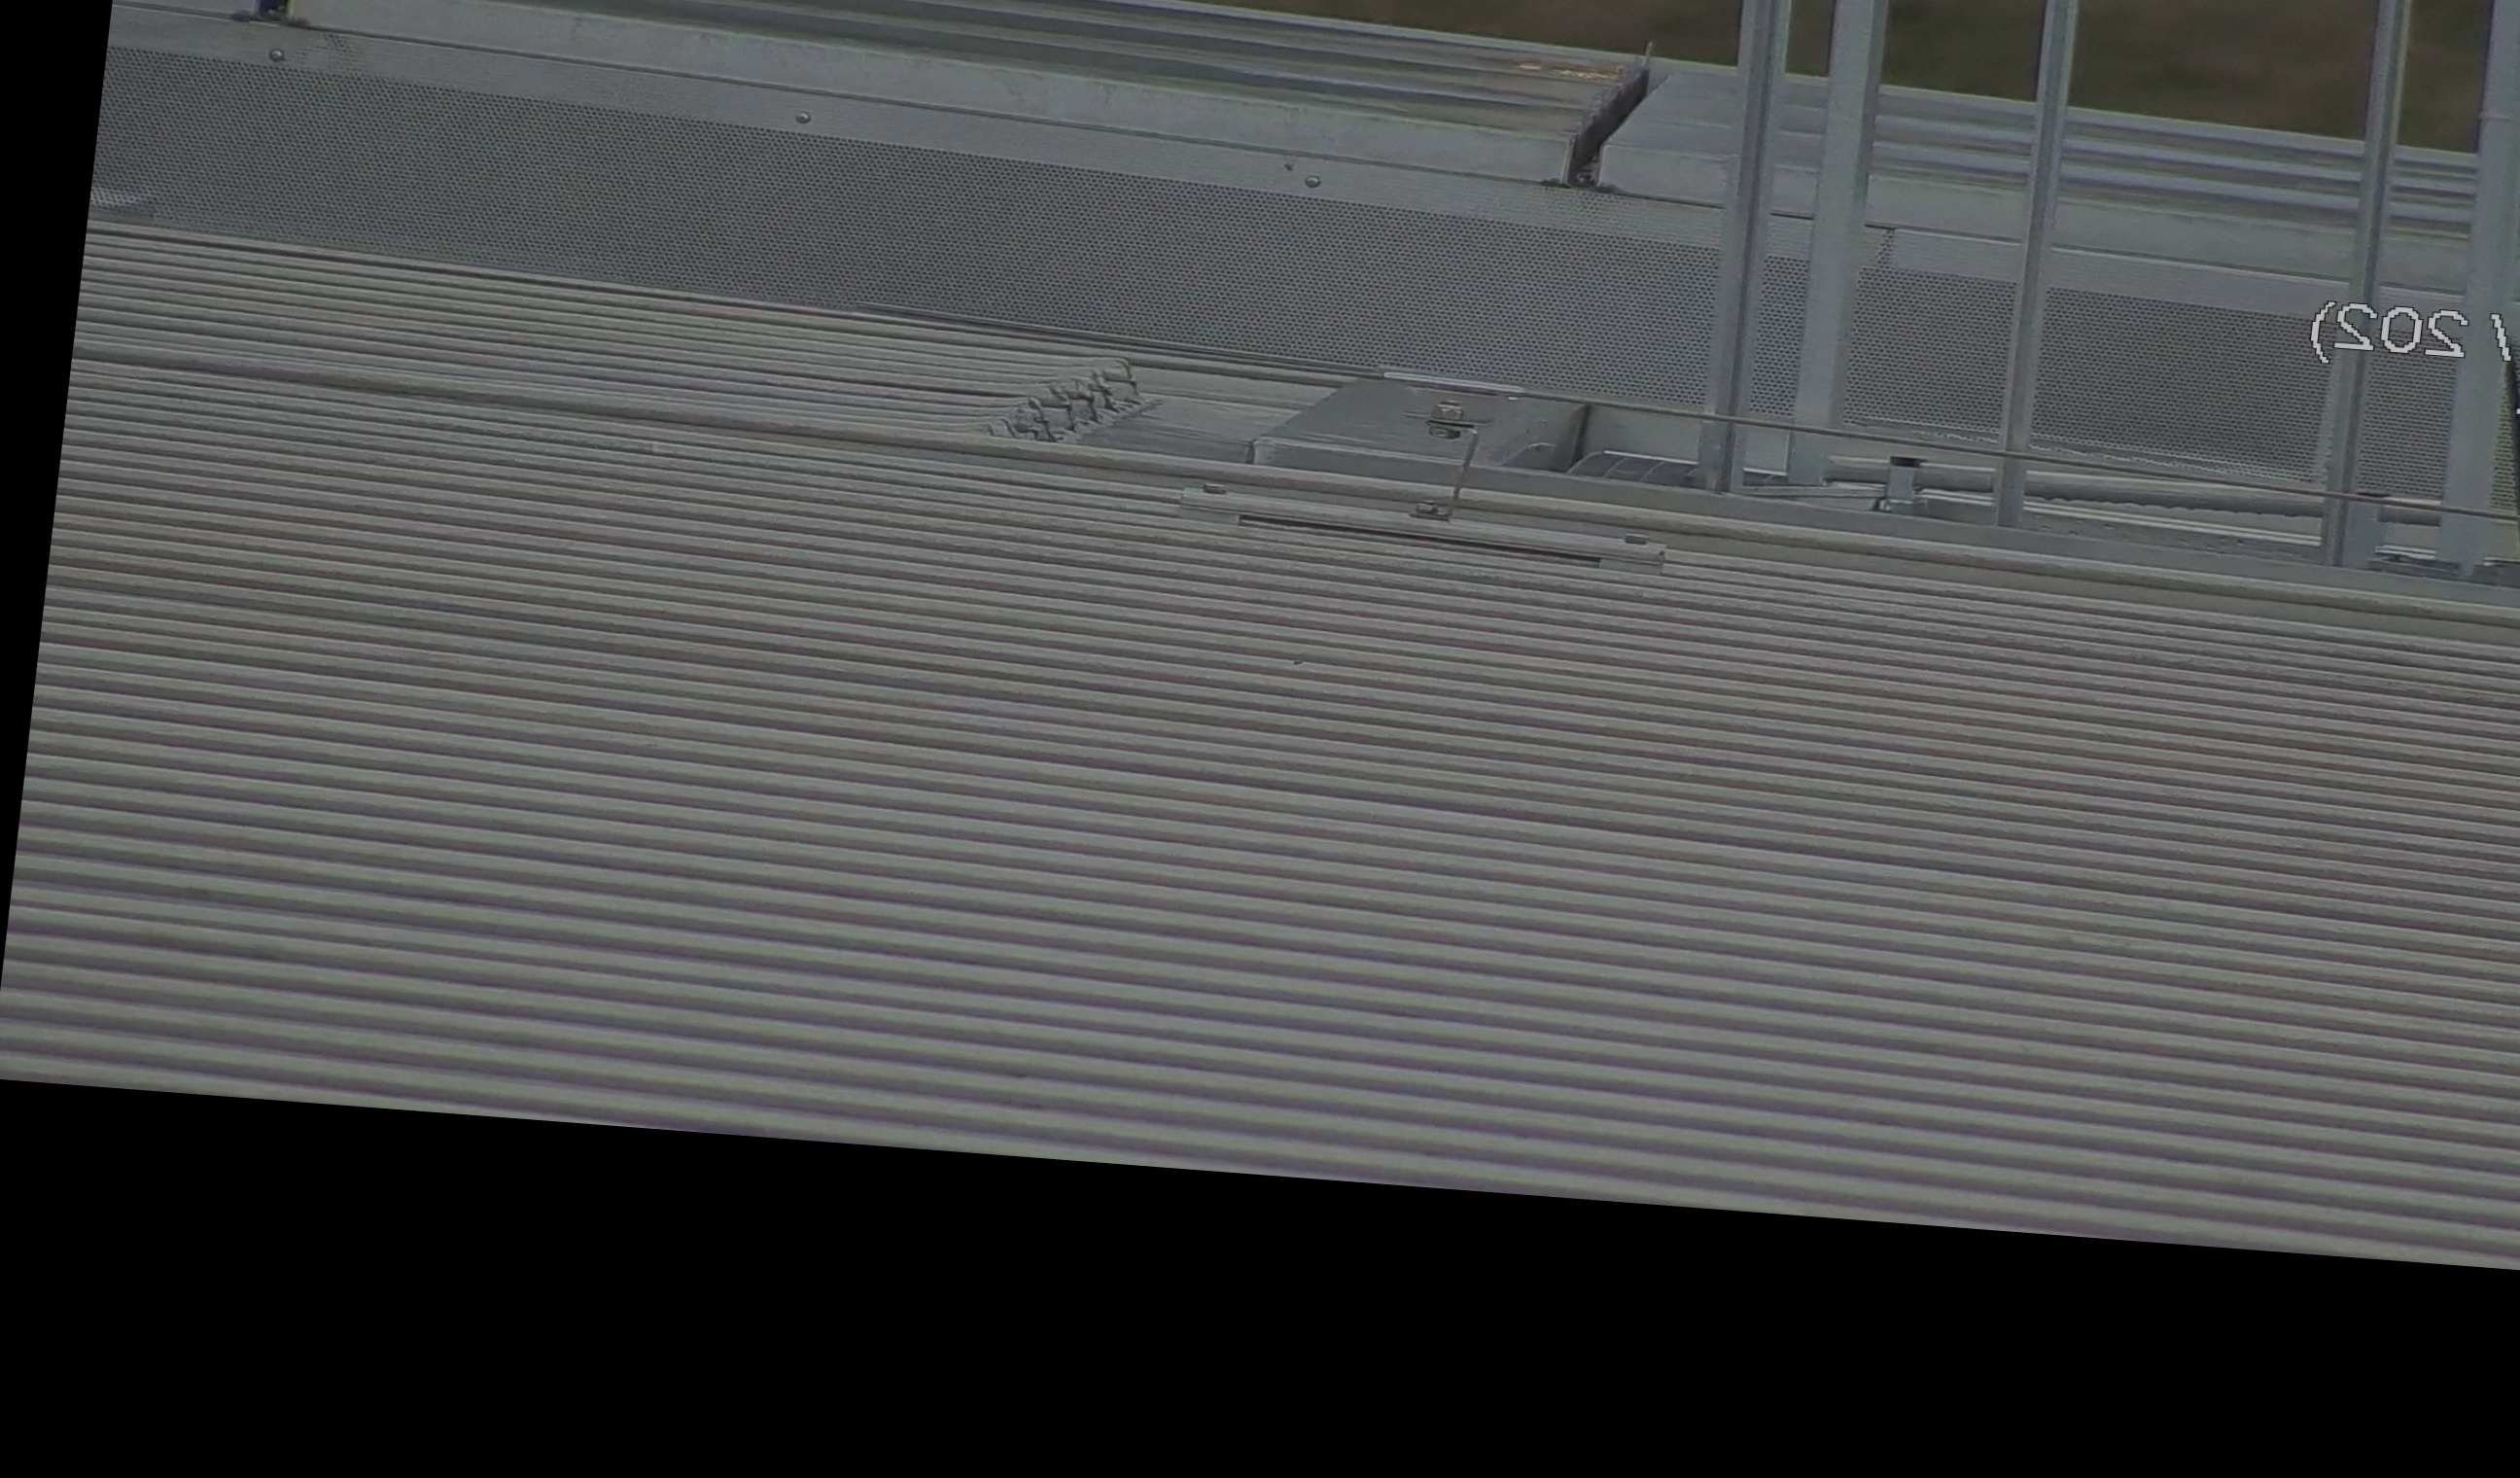Other: (1533, 39, 1685, 195)
